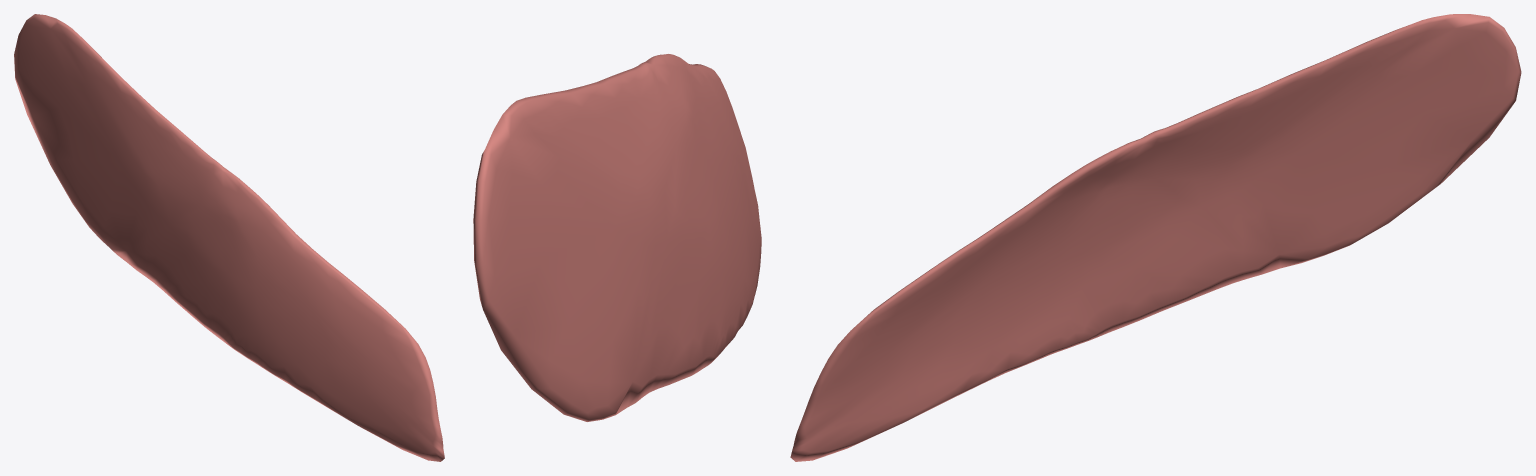
The picture shows the model from 3 angles, left to right: view 1: azimuth 30°, elevation 25°; view 2: azimuth 150°, elevation 25°; view 3: azimuth 270°, elevation 25°; orthographic projection. The views are drawn at different scales.
Parts seen in each view (by area): view 1: ZA_73e9820fa792895f; view 2: ZA_73e9820fa792895f; view 3: ZA_73e9820fa792895f.
Part boxes in pixels (left/top/right/bottom): ZA_73e9820fa792895f: left=14, top=14, right=444, bottom=461; ZA_73e9820fa792895f: left=473, top=54, right=761, bottom=421; ZA_73e9820fa792895f: left=790, top=14, right=1521, bottom=461.
Bounding box in the file's own units: 0.0117 × 0.0218 × 0.039.
